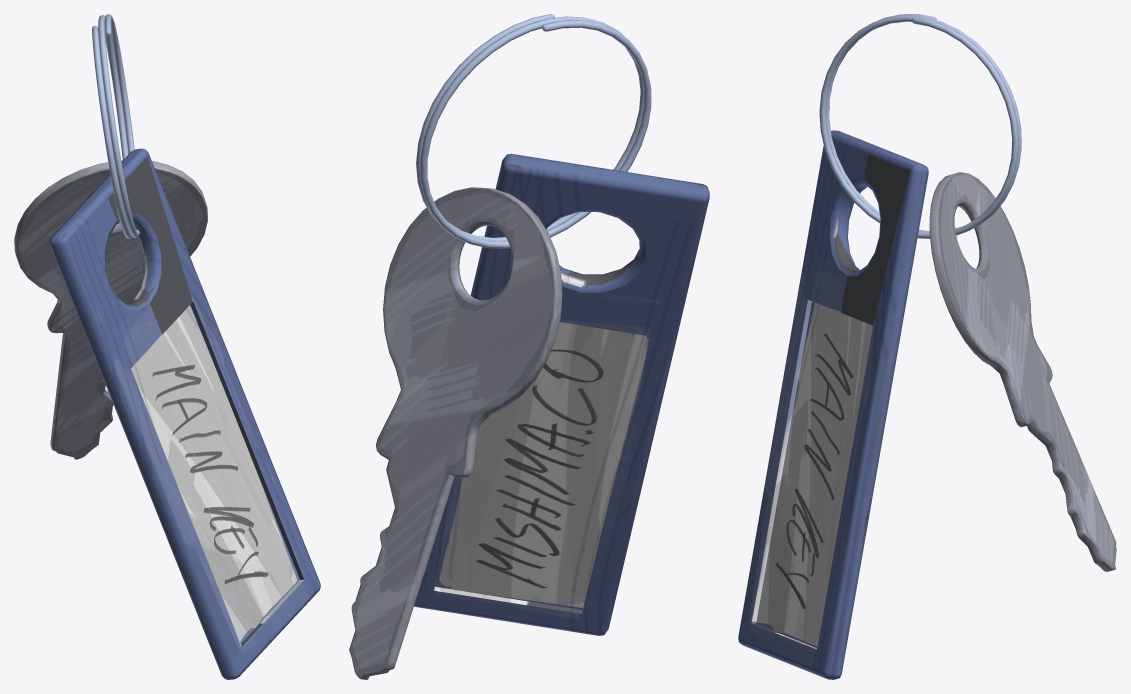
Rendered from key 1.fbx.
3 views of the same model, side by side, from view 1: azimuth 30°, elevation 25°; view 2: azimuth 150°, elevation 25°; view 3: azimuth 270°, elevation 25° (orthographic). The views are drawn at different scales.
Parts seen in each view (by area): view 1: SM_KeyTag.001; view 2: SM_KeyTag.001; view 3: SM_KeyTag.001.
Boxes of the visible parts, bbox=[...] form: SM_KeyTag.001: bbox=[14, 14, 320, 679]; SM_KeyTag.001: bbox=[349, 14, 709, 679]; SM_KeyTag.001: bbox=[738, 14, 1116, 679].
Bounding box in the file's own units: 23.44 × 50.75 × 28.59.
3 materials, 2 textured.
